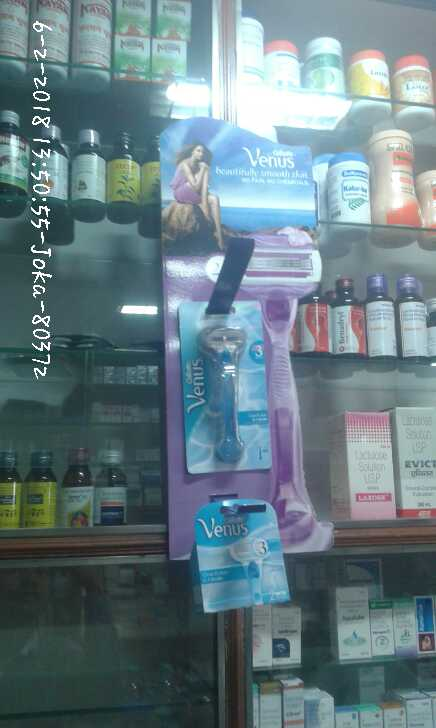venus: (175, 290, 275, 473), (191, 498, 296, 602)
